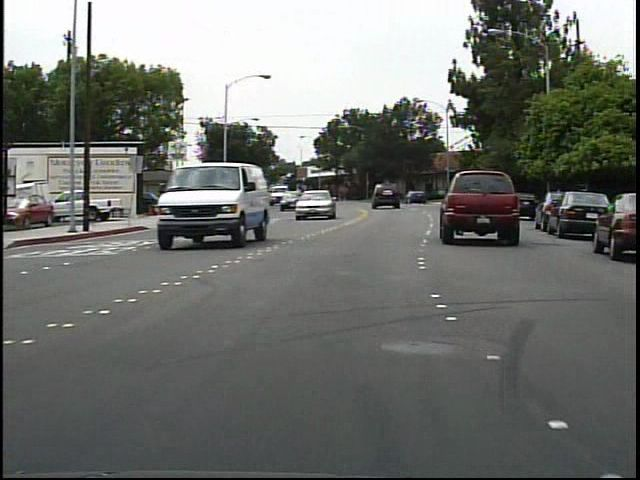car: (152, 154, 268, 254), (440, 170, 533, 256), (595, 193, 640, 261), (546, 190, 597, 240), (1, 192, 57, 230), (293, 188, 339, 220), (370, 183, 402, 210)
